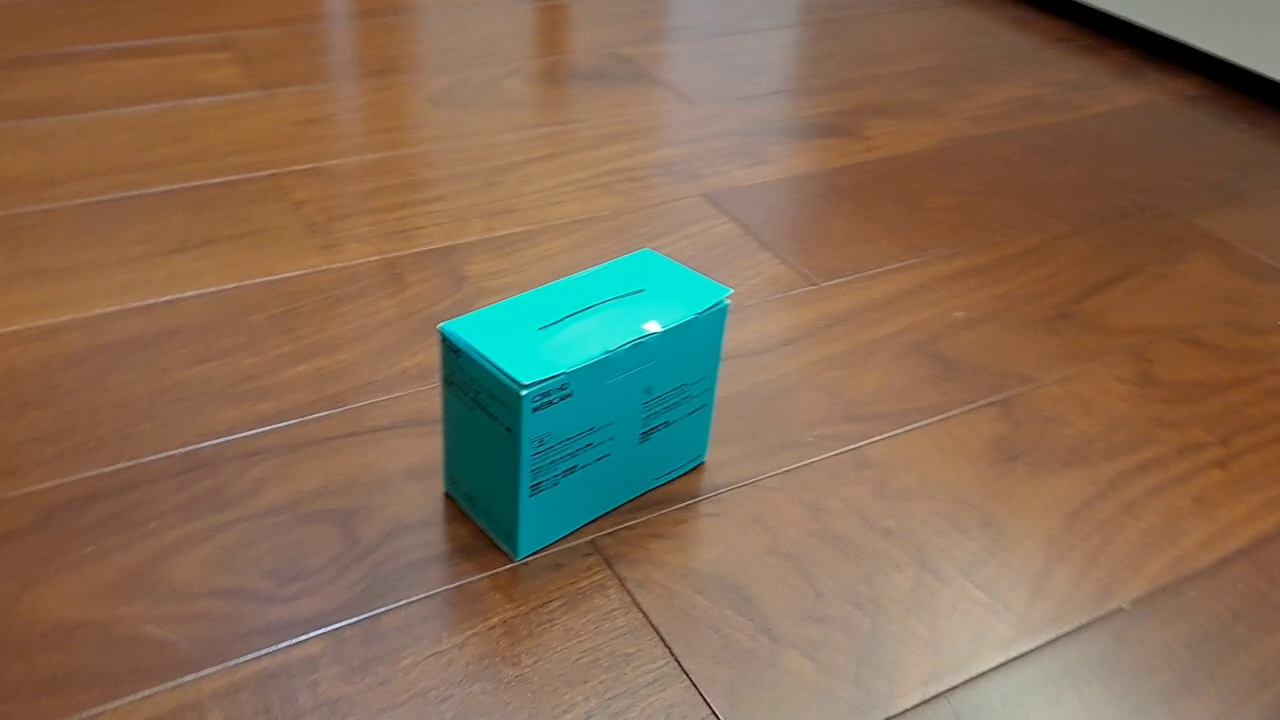webcam: (435, 246, 735, 564)
